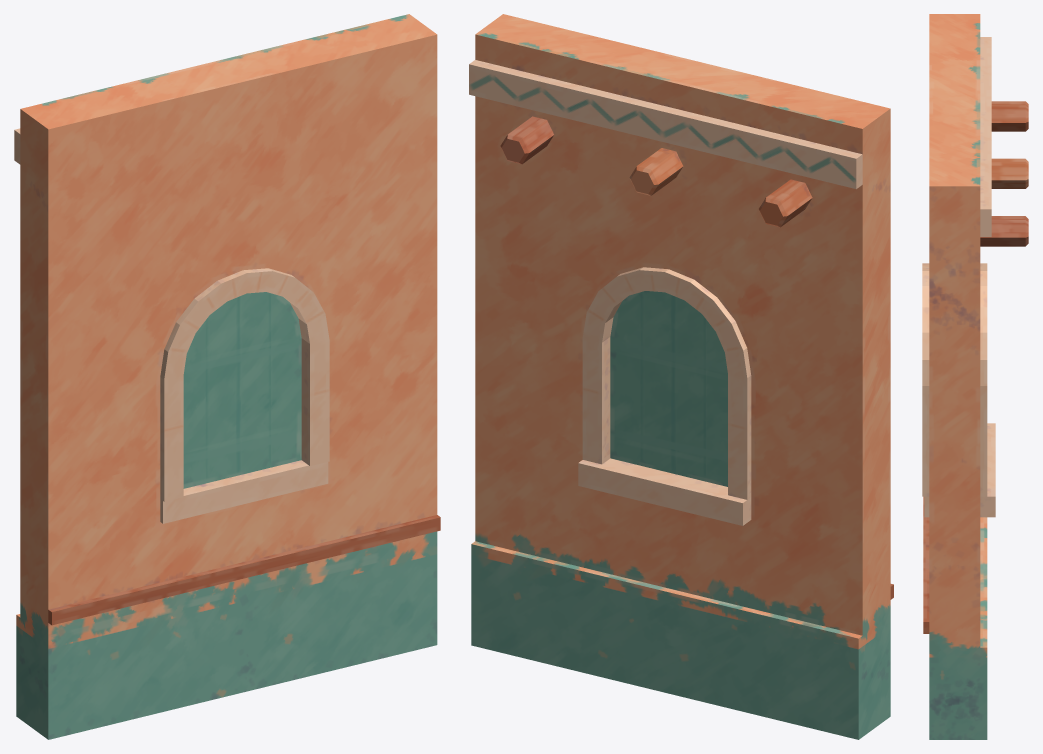
Rendered from wall2_shutter_low.fbx.
3 views of the same model, side by side, from view 1: azimuth 30°, elevation 25°; view 2: azimuth 150°, elevation 25°; view 3: azimuth 270°, elevation 25° (orthographic). The views are drawn at different scales.
Visible parts, largest first — view 1: wall2_shutter; view 2: wall2_shutter; view 3: wall2_shutter.
Boxes of the visible parts, bbox=[...] form: wall2_shutter: bbox=[14, 14, 440, 739]; wall2_shutter: bbox=[469, 14, 893, 739]; wall2_shutter: bbox=[922, 14, 1028, 739].
Bounding box in the file's own units: 8 × 12 × 2.09.
Materials: 1 (1 with a texture image).
